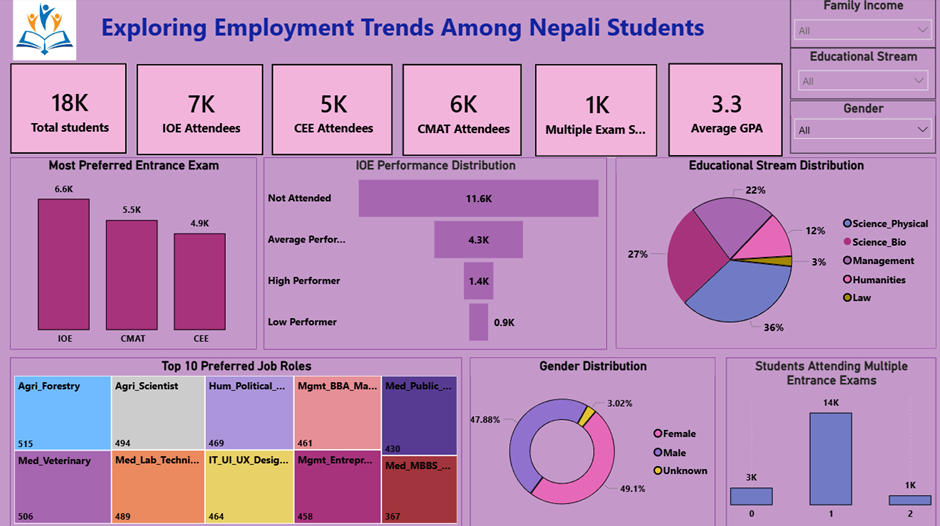

The dashboard page shown, as its layout file describes it:
{"tool":"powerbi","page":{"name":"Page 1","canvas":[1280,720],"ordinal":0},"visuals":[{"type":"cardVisual","fields":{"Data":["CountNonNull(Cleaned_Data.Student_ID)"]},"box":[15.7,89.3,158,123.1],"z":0},{"type":"cardVisual","fields":{"Data":["Cleaned_Data.CEE Attendees"]},"box":[370.4,90.5,164.1,124.3],"z":1000},{"type":"cardVisual","fields":{"Data":["Cleaned_Data.CMAT Attendees"]},"box":[547.7,90.5,162.9,125.5],"z":2000},{"type":"cardVisual","fields":{"Data":["Cleaned_Data.IOE Attendees"]},"box":[187,90.5,172.5,124.3],"z":3000},{"type":"donutChart","title":"Gender Distribution","fields":{"Y":["CountNonNull(Cleaned_Data.Student_ID)"],"Category":["Cleaned_Data.Gender"]},"box":[639.4,488.6,333,231.6],"z":5000},{"type":"pieChart","title":"Educational Stream Distribution","fields":{"Category":["Cleaned_Data.Plus2_Stream"],"Y":["CountNonNull(Cleaned_Data.Student_ID)"]},"box":[837.3,217.2,434.3,259.4],"z":6000},{"type":"cardVisual","fields":{"Data":["Cleaned_Data.Average GPA"]},"box":[908.4,89.3,155.6,127.9],"z":7000},{"type":"slicer","title":"Gender","fields":{"Values":["Cleaned_Data.Gender"]},"box":[1073.7,139.9,197.9,72.4],"z":8000},{"type":"slicer","title":"Educational Stream","fields":{"Values":["Cleaned_Data.Plus2_Stream"]},"box":[1073.7,68.8,197.9,70],"z":9000},{"type":"slicer","title":"Family Income","fields":{"Values":["Cleaned_Data.Family_Income"]},"box":[1073.7,0,197.9,68.8],"z":10000},{"type":"clusteredColumnChart","title":"Most Preferred Entrance Exam","fields":{"Category":["Entrance_Exam_Table.Entrance_Exam"],"Y":["Cleaned_Data.Exam Student Count"]},"box":[15.7,217.2,334.2,260.6],"z":11000},{"type":"columnChart","title":"Students Attending Multiple Entrance Exams","fields":{"Category":["Cleaned_Data.Exam_Count"],"Y":["CountNonNull(Cleaned_Data.Student_ID)"]},"box":[986.9,488.6,284.7,231.6],"z":12000},{"type":"funnel","title":"IOE Performance Distribution","fields":{"Category":["Cleaned_Data.IOE_Performance"],"Y":["CountNonNull(Cleaned_Data.Student_ID)"]},"box":[359.5,217.2,465.7,260.6],"z":13000},{"type":"treemap","title":"Top 10 Preferred Job Roles","fields":{"Group":["Cleaned_Data.Suggested_Job_Role"],"Values":["CountNonNull(Cleaned_Data.Student_ID)"]},"box":[15.7,488.6,612.9,231.6],"z":14000},{"type":"textbox","box":[138.7,0,855.4,88.1],"z":15000},{"type":"image","box":[15.7,0,94.1,85.7],"z":16000},{"type":"cardVisual","fields":{"Data":["Cleaned_Data.Multiple Exam Students"]},"box":[727.5,90.5,166.5,126.7],"z":17000}]}

Visuals, with their boxes in screenshot pixels (x1, y1, x2, y2), scaled from the page's 1280x720 canvas onto the 940x526 screenshot:
cardVisual - CountNonNull(Cleaned_Data.Student_ID): {"x1": 12, "y1": 65, "x2": 128, "y2": 155}
cardVisual - Cleaned_Data.CEE Attendees: {"x1": 272, "y1": 66, "x2": 393, "y2": 157}
cardVisual - Cleaned_Data.CMAT Attendees: {"x1": 402, "y1": 66, "x2": 522, "y2": 158}
cardVisual - Cleaned_Data.IOE Attendees: {"x1": 137, "y1": 66, "x2": 264, "y2": 157}
"Gender Distribution" donutChart: {"x1": 470, "y1": 357, "x2": 714, "y2": 525}
"Educational Stream Distribution" pieChart: {"x1": 615, "y1": 159, "x2": 934, "y2": 348}
cardVisual - Cleaned_Data.Average GPA: {"x1": 667, "y1": 65, "x2": 781, "y2": 159}
"Gender" slicer: {"x1": 788, "y1": 102, "x2": 934, "y2": 155}
"Educational Stream" slicer: {"x1": 788, "y1": 50, "x2": 934, "y2": 101}
"Family Income" slicer: {"x1": 788, "y1": 0, "x2": 934, "y2": 50}
"Most Preferred Entrance Exam" clusteredColumnChart: {"x1": 12, "y1": 159, "x2": 257, "y2": 349}
"Students Attending Multiple Entrance Exams" columnChart: {"x1": 725, "y1": 357, "x2": 934, "y2": 525}
"IOE Performance Distribution" funnel: {"x1": 264, "y1": 159, "x2": 606, "y2": 349}
"Top 10 Preferred Job Roles" treemap: {"x1": 12, "y1": 357, "x2": 462, "y2": 525}
textbox: {"x1": 102, "y1": 0, "x2": 730, "y2": 64}
image: {"x1": 12, "y1": 0, "x2": 81, "y2": 63}
cardVisual - Cleaned_Data.Multiple Exam Students: {"x1": 534, "y1": 66, "x2": 657, "y2": 159}
